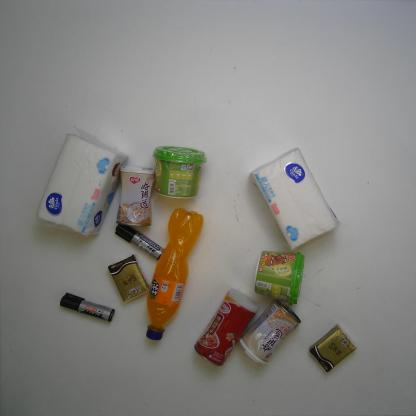Canned Food: (193, 288, 260, 367), (239, 298, 303, 365), (114, 164, 156, 228)
Drink: (146, 207, 205, 341)
Instant Drink: (151, 144, 208, 200), (253, 248, 307, 305)
Stationery: (114, 223, 166, 261), (59, 292, 116, 322)
Tissue: (35, 127, 130, 237), (248, 145, 340, 252), (308, 323, 358, 373), (107, 254, 151, 304)
